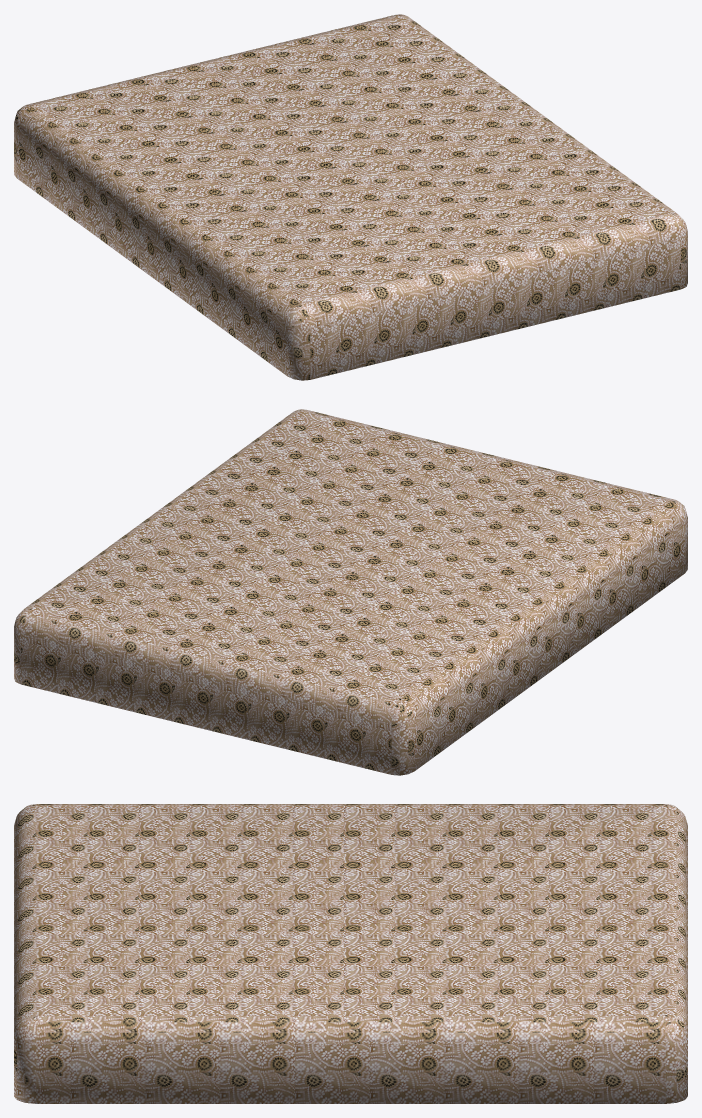
The model's file is sheet.obj.
The picture shows the model from 3 angles, top to bottom: view 1: azimuth 30°, elevation 25°; view 2: azimuth 150°, elevation 25°; view 3: azimuth 270°, elevation 25°; orthographic projection. The views are drawn at different scales.
Visible parts, largest first — view 1: Mesh1 Group2 Group1 Model; view 2: Mesh1 Group2 Group1 Model; view 3: Mesh1 Group2 Group1 Model.
Boxes of the visible parts, x1,y1,x2,y2 form: Mesh1 Group2 Group1 Model: (14, 14, 687, 380); Mesh1 Group2 Group1 Model: (14, 409, 687, 775); Mesh1 Group2 Group1 Model: (14, 804, 687, 1103).
Bounding box in the file's own units: 65.81 × 10.91 × 82.91.
